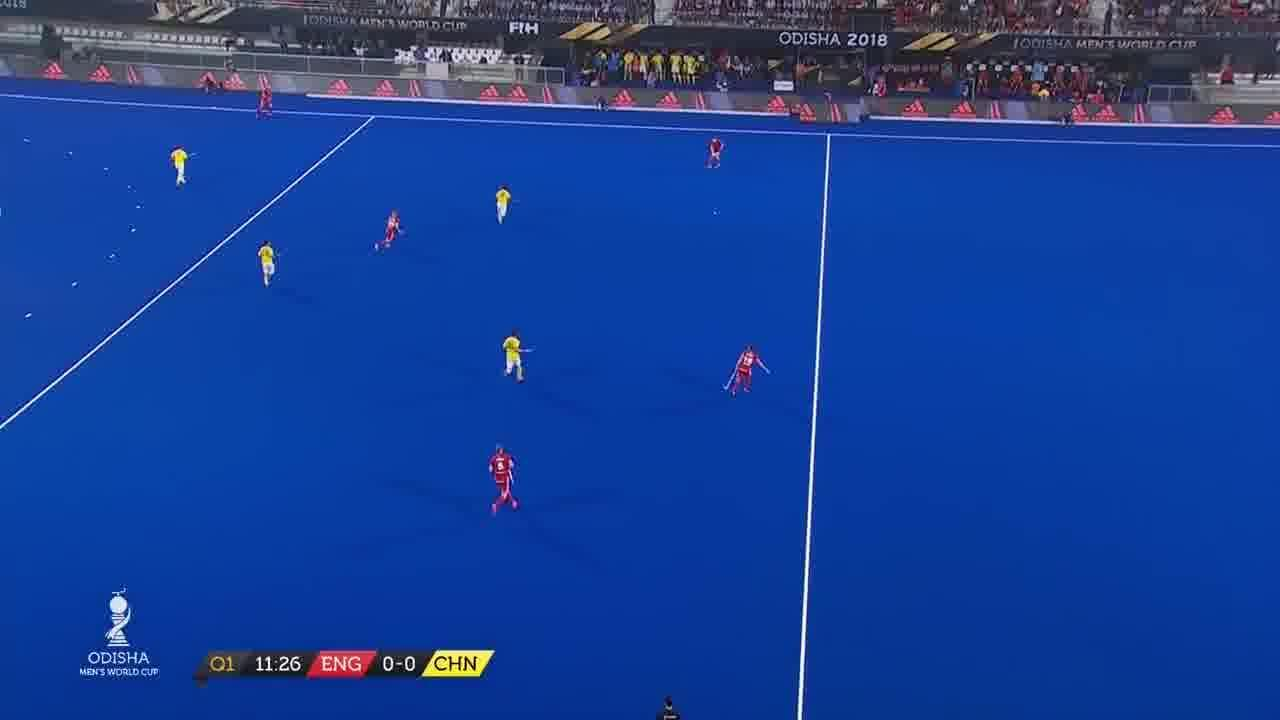ball: (709, 207, 720, 222)
